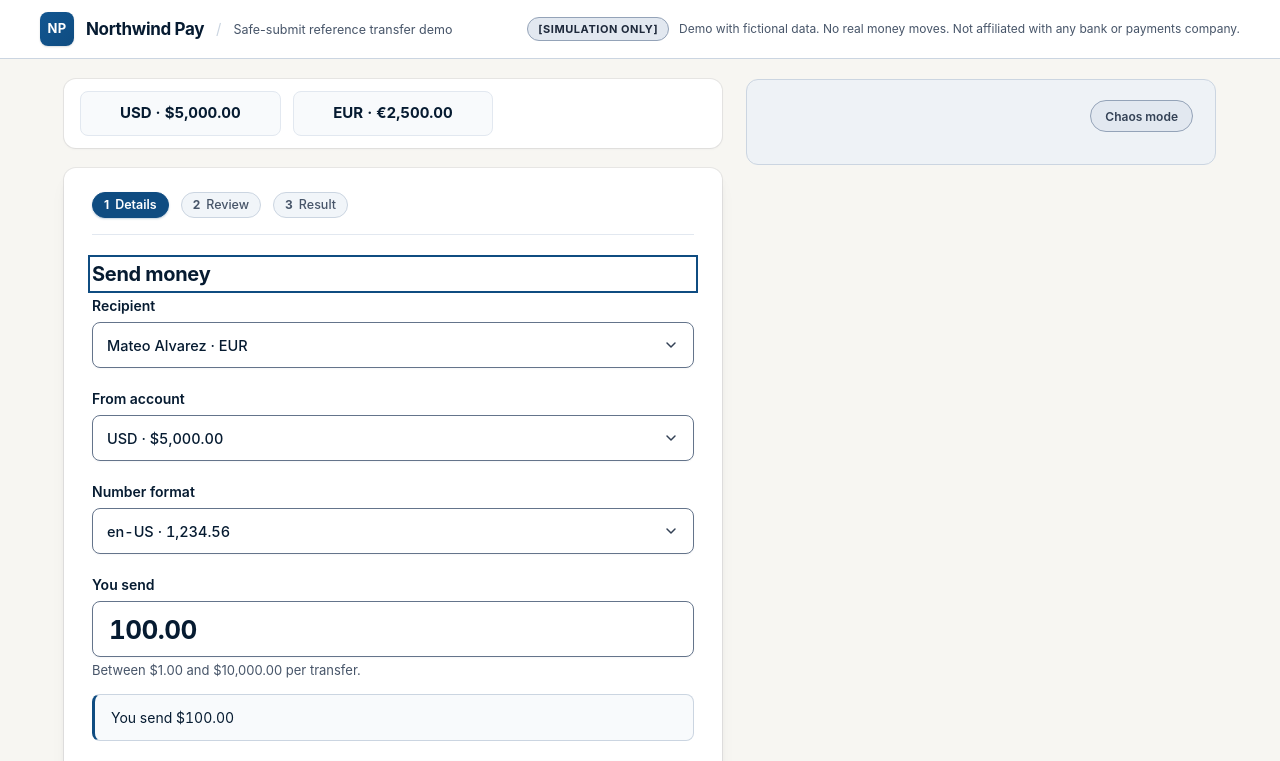
Test: Presentation Regression Safety Net (Phase 1) › PR-06: Chaos panel toggle expands section with accessible preset buttons
Click the button "Chaos mode": [1142, 116] box x1=1090 y1=100 x2=1193 y2=132
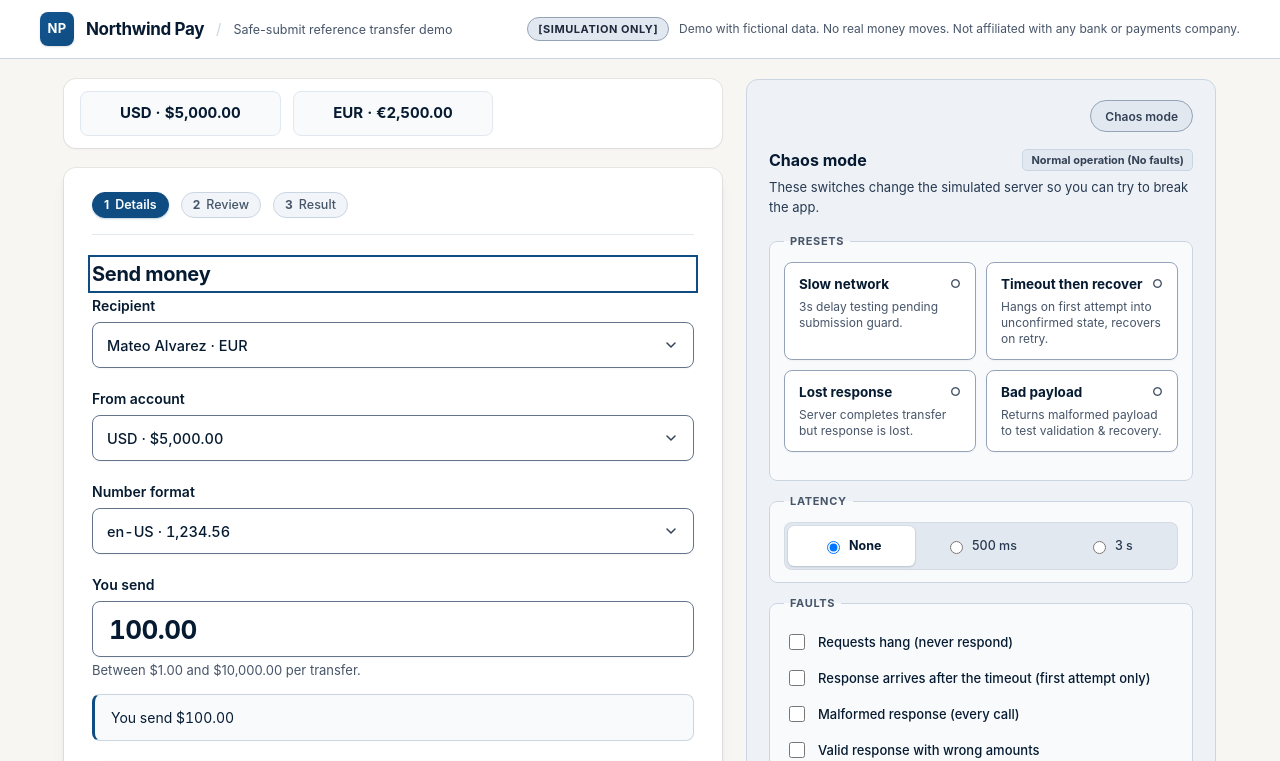
Check: the button "Slow network" is shown, box x1=799 y1=276 x2=950 y2=292
Check: the button "Timeout then recover" is shown, box x1=1001 y1=276 x2=1152 y2=292
Check: the button "Lost response" is shown, box x1=799 y1=384 x2=950 y2=400
